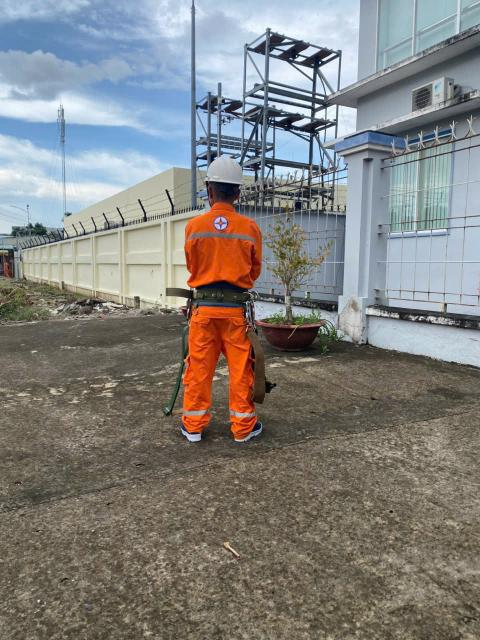harness: (178, 268, 267, 317)
helmet: (196, 151, 249, 193)
shoes: (233, 419, 267, 444), (175, 420, 206, 442)
